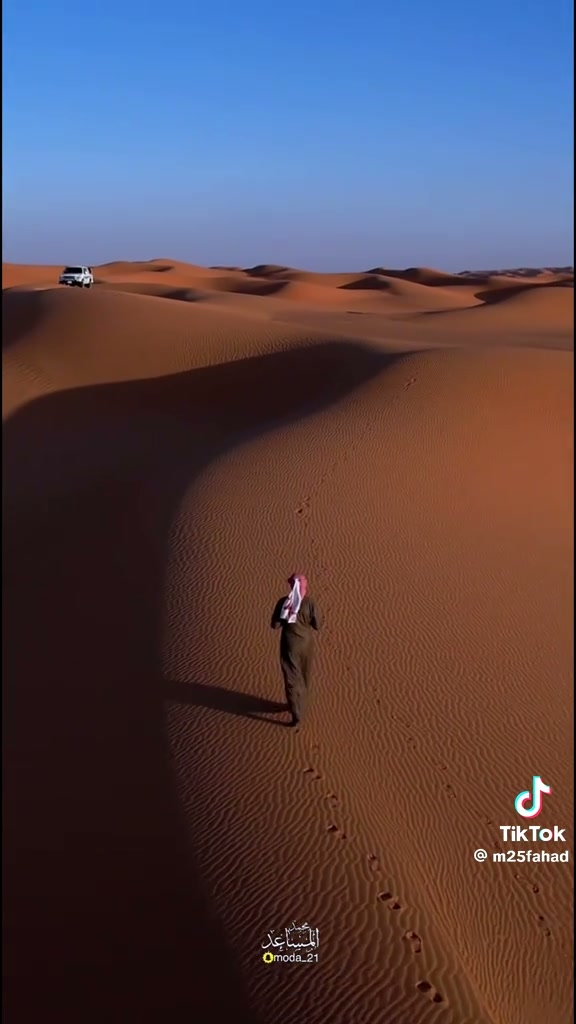human_footprint: (271, 574, 320, 726), (416, 979, 443, 1002), (514, 873, 539, 893), (403, 929, 421, 954), (378, 892, 401, 910), (296, 496, 311, 516), (537, 914, 550, 937), (327, 823, 345, 839), (303, 766, 321, 780), (367, 854, 379, 872), (325, 792, 338, 805)
